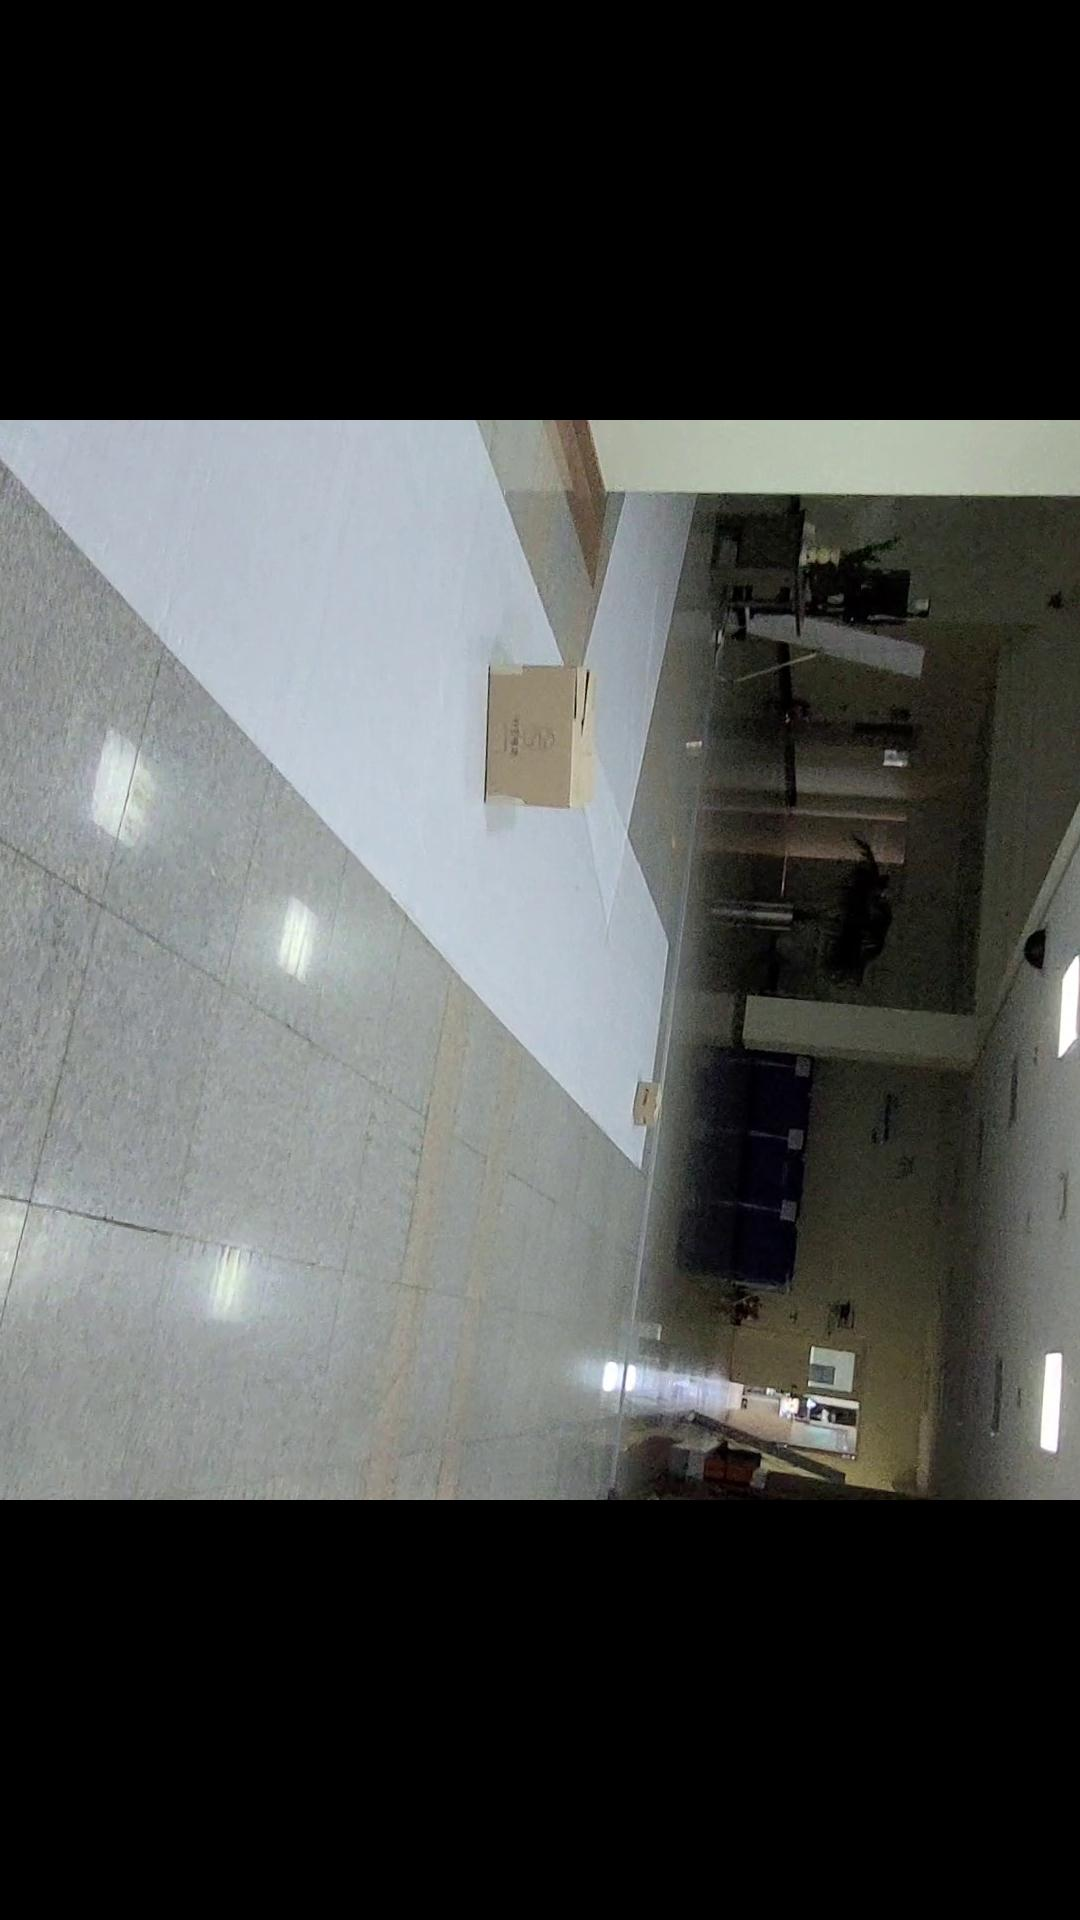Box: (465, 647, 636, 835), (611, 1077, 702, 1162)
